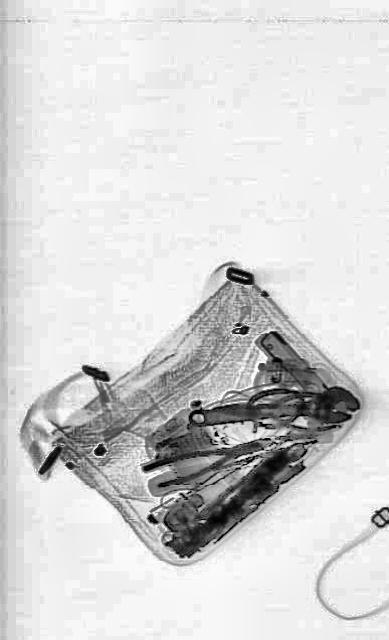Pliers: (142, 424, 272, 494)
Wrench: (186, 382, 360, 436)
